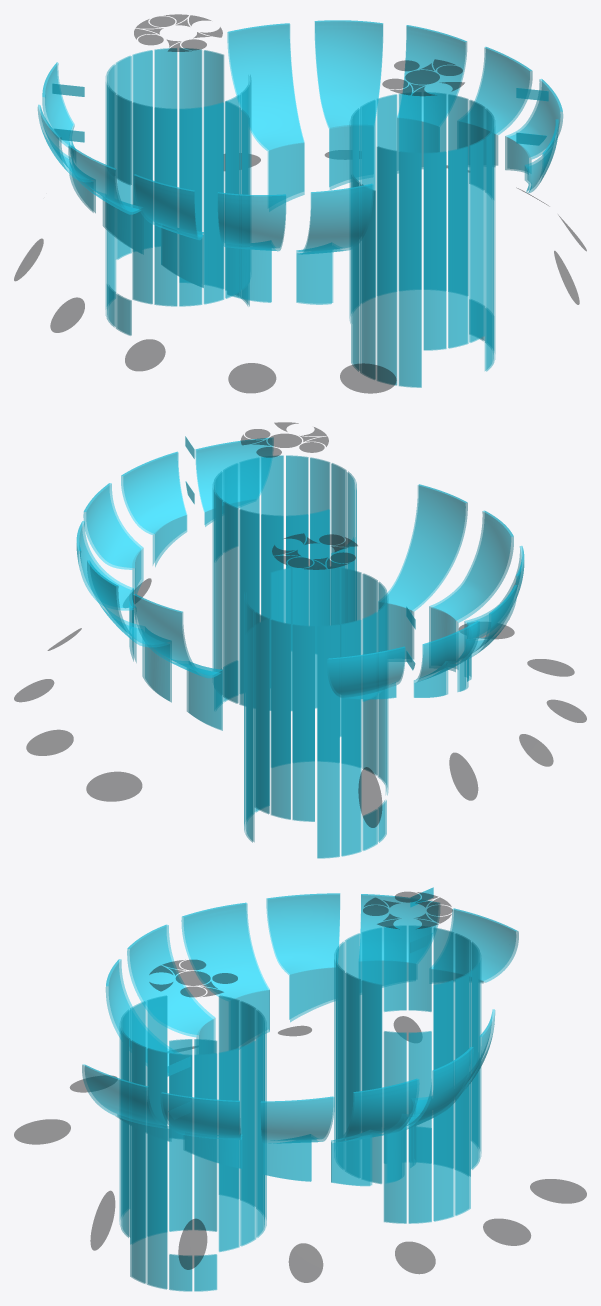
Rendered from Glasses.fbx.
The picture shows the model from 3 angles, top to bottom: view 1: azimuth 30°, elevation 25°; view 2: azimuth 150°, elevation 25°; view 3: azimuth 270°, elevation 25°; orthographic projection.
Visible parts, largest first — view 1: Object_1; view 2: Object_1; view 3: Object_1.
Part boxes in pixels (x1,y1,x2,y2): Object_1: [14, 14, 586, 393]; Object_1: [14, 422, 586, 858]; Object_1: [14, 887, 586, 1291].
Size of the model in its own units: 4161 by 2220 by 4084.
